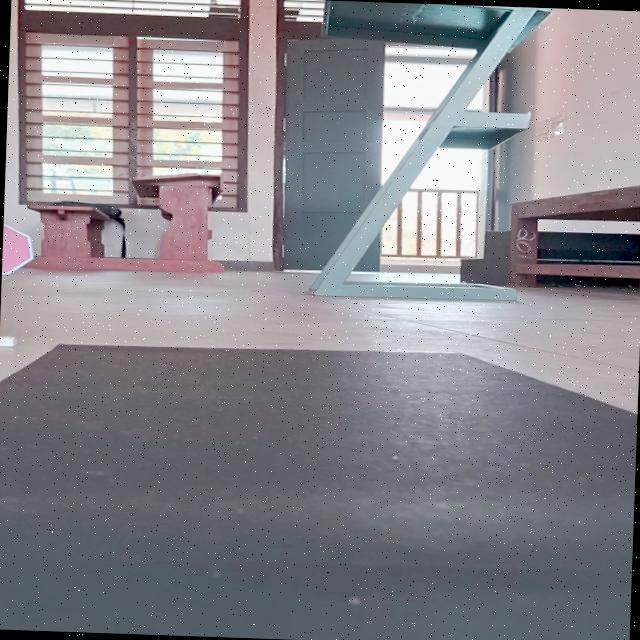Stop: (1, 221, 38, 278)
